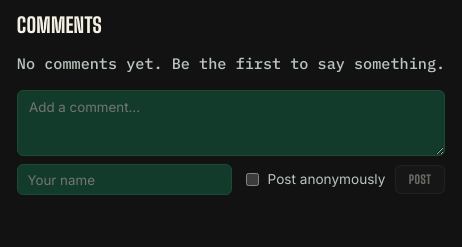
Test case: CommentsSection › allows posting anonymously without a name
This screenshot has width=462, height=247.
Expected: the list item "No comments yet. Be the first to say something." is shown, [17, 52, 445, 74]
Type "Nice work" into the text box labelled "comment" at coordinates (231, 123), box [17, 90, 445, 156]
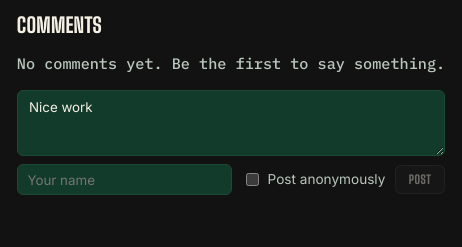
Click the checkbox labelled "Post anonymously" at coordinates (252, 180), box [246, 173, 259, 186]
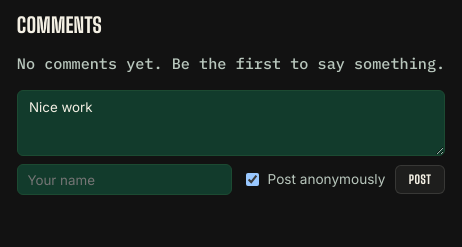
Expected: the button "Post" is enabled
Click the button "Post" at coordinates (420, 180), box [395, 165, 445, 194]
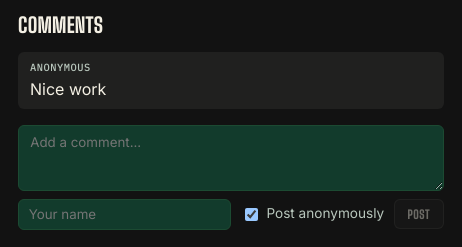
Expected: the text "Nice work" is shown, [30, 79, 106, 99]
